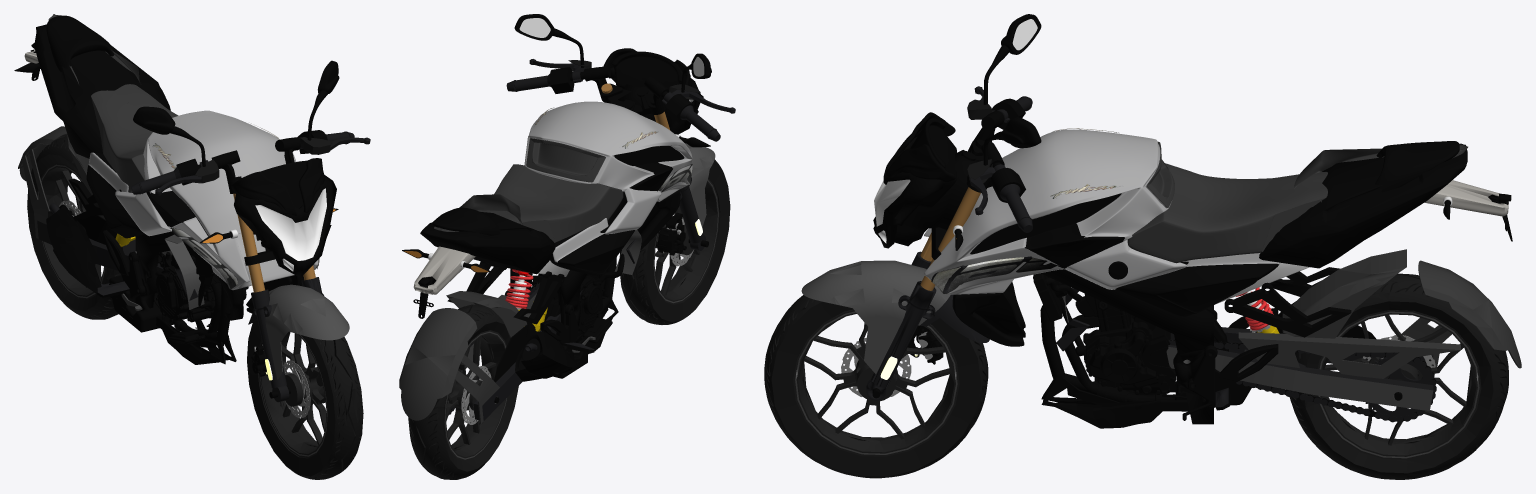
File: Pulsarcomp.glb
3 renders of one model, left to right at view 1: azimuth 30°, elevation 25°; view 2: azimuth 150°, elevation 25°; view 3: azimuth 270°, elevation 25°, orthographic. The views are drawn at different scales.
Visible parts, largest first — view 1: Object_501_Object_248; view 2: Object_501_Object_248; view 3: Object_501_Object_248.
Boxes of the visible parts, x1,y1,x2,y2 form: Object_501_Object_248: [14, 14, 370, 479]; Object_501_Object_248: [399, 14, 735, 479]; Object_501_Object_248: [764, 14, 1521, 479].
Bounding box in the file's own units: 0.7885 × 1.16 × 1.96.
Materials: 34 (5 with a texture image).
